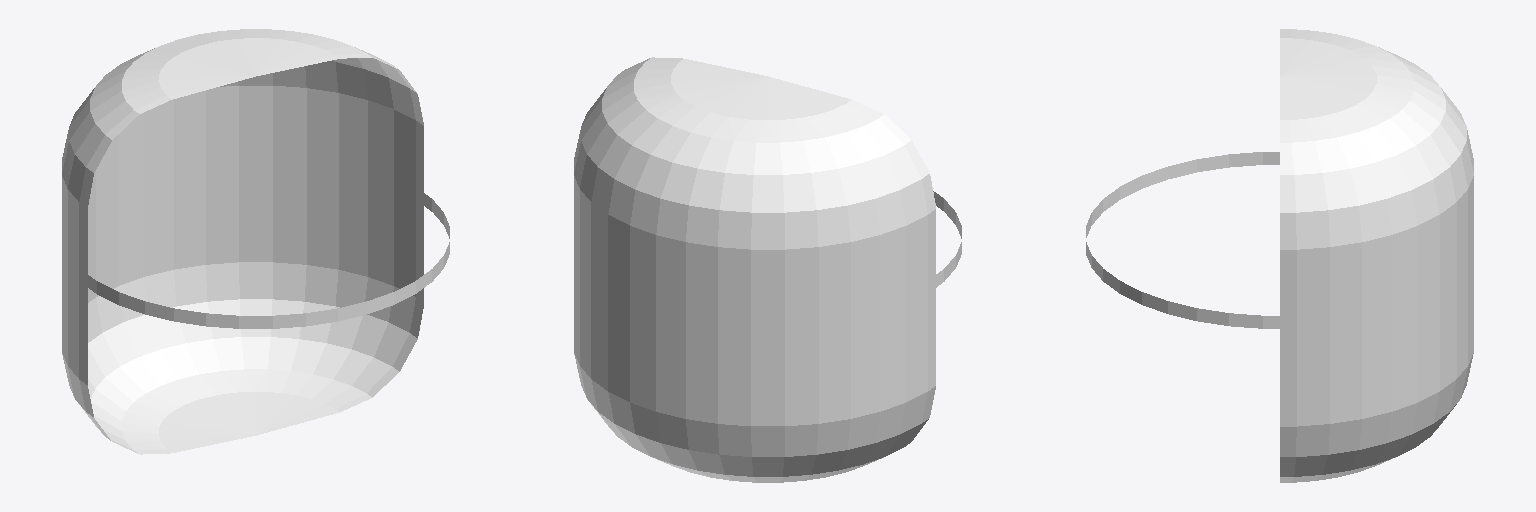
The model's file is fusionbraceface.obj.
The picture shows the model from 3 angles: view 1: azimuth 30°, elevation 25°; view 2: azimuth 150°, elevation 25°; view 3: azimuth 270°, elevation 25°; orthographic projection.
Parts seen in each view (by area): view 1: Fusionbrace1; view 2: Fusionbrace1; view 3: Fusionbrace1.
Part boxes in pixels (x1,y1,x2,y2): Fusionbrace1: (62,29,449,454); Fusionbrace1: (574,57,961,482); Fusionbrace1: (1086,29,1473,482).
Size of the model in its own units: 1.21 by 1.23 by 1.21.